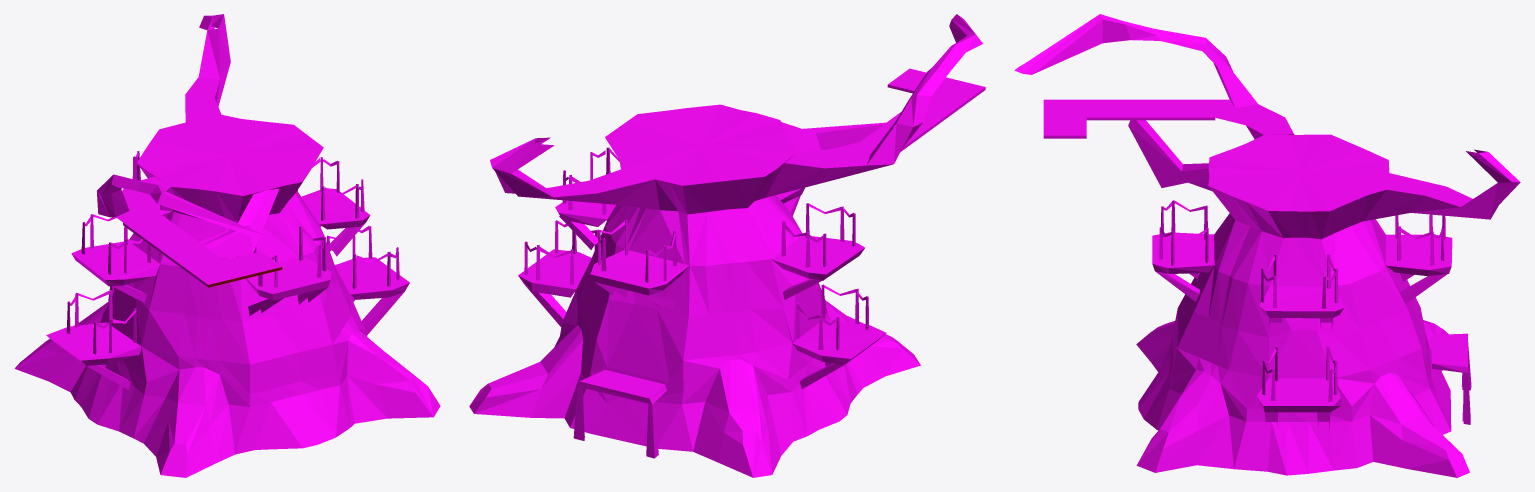
The model's file is grand tree-lev 0.obj.
3 renders of one model, left to right at view 1: azimuth 30°, elevation 25°; view 2: azimuth 150°, elevation 25°; view 3: azimuth 270°, elevation 25°, orthographic. The views are drawn at different scales.
Visible parts, largest first — view 1: grand tree-lev 0_back; view 2: grand tree-lev 0_back; view 3: grand tree-lev 0_back.
Part boxes in pixels (x1,y1,x2,y2): grand tree-lev 0_back: (14,14,440,477); grand tree-lev 0_back: (469,14,985,477); grand tree-lev 0_back: (1014,14,1520,477).
Size of the model in its own units: 11.6 by 10.24 by 15.12.
